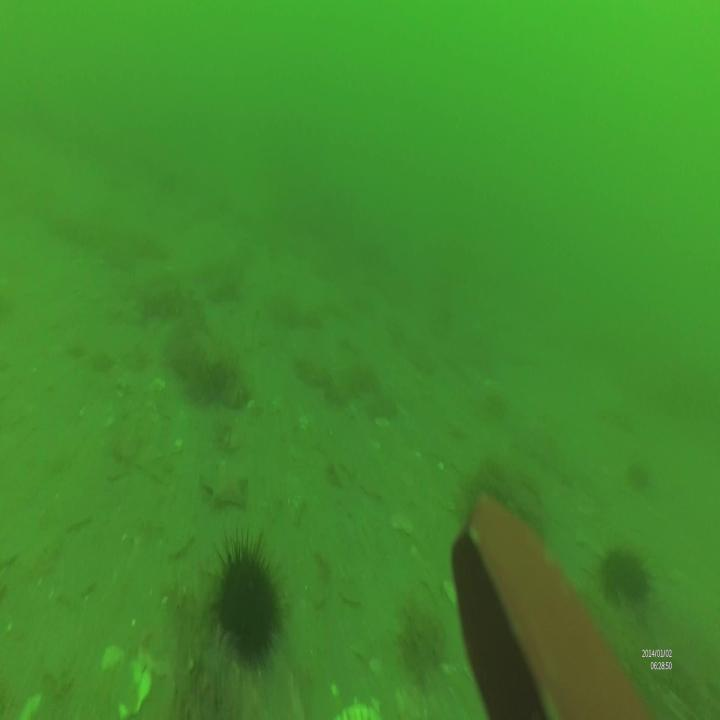echinus: (206, 528, 292, 673), (597, 540, 655, 614)
